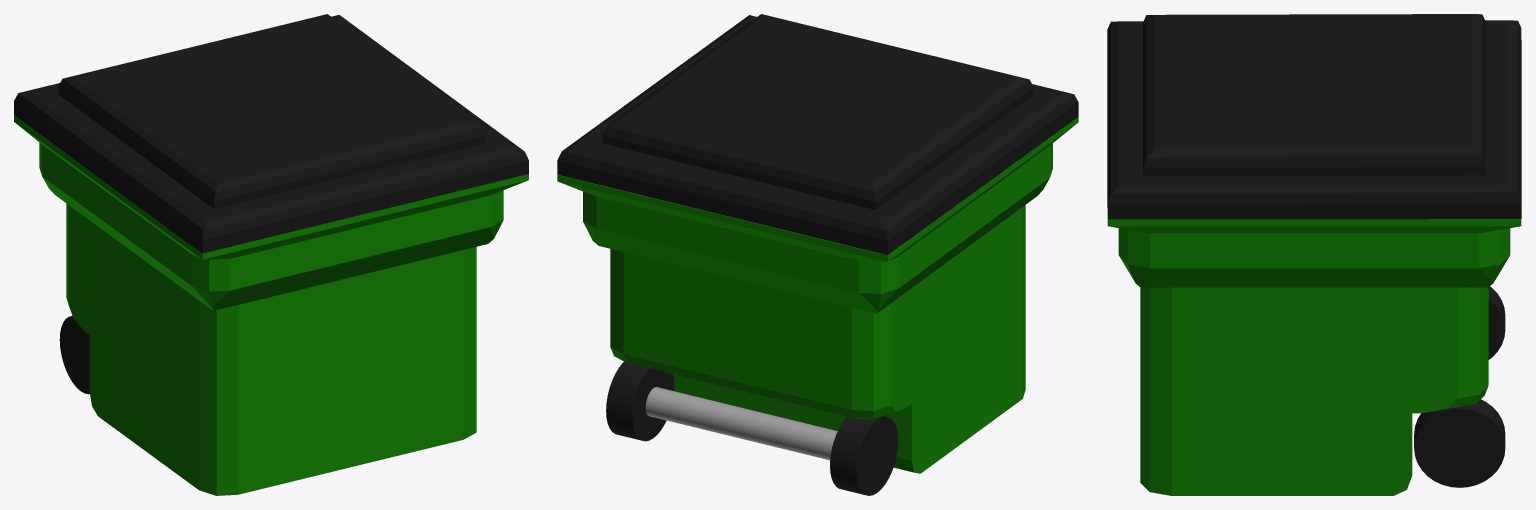
Rendered from Trash.fbx.
3 renders of one model, left to right at view 1: azimuth 30°, elevation 25°; view 2: azimuth 150°, elevation 25°; view 3: azimuth 270°, elevation 25°, orthographic. The views are drawn at different scales.
Visible parts, largest first — view 1: Trash, Lid; view 2: Trash, Lid; view 3: Trash, Lid.
Boxes of the visible parts, x1=… form: Trash: x1=14, y1=115, x2=528, y2=495; Lid: x1=14, y1=14, x2=528, y2=253; Trash: x1=557, y1=117, x2=1078, y2=495; Lid: x1=557, y1=14, x2=1078, y2=255; Trash: x1=1107, y1=219, x2=1521, y2=495; Lid: x1=1107, y1=14, x2=1521, y2=219.
Size of the model in its own units: 101 by 91.3 by 101.
